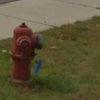Hydrant: (8, 15, 46, 88)
